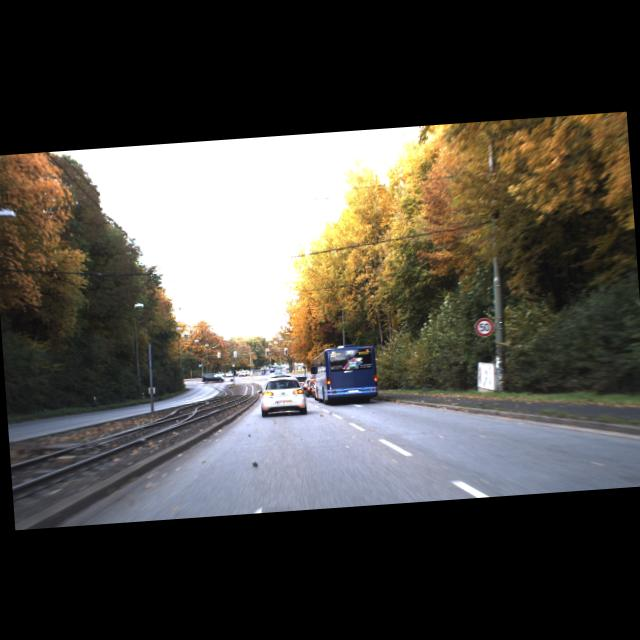prohibitory: (474, 316, 494, 336)
